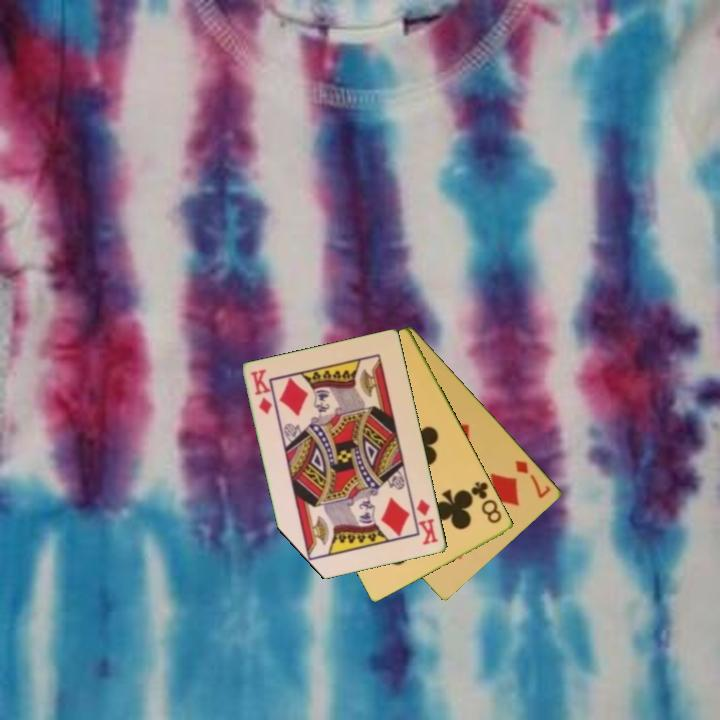7d: (512, 456, 554, 501)
8c: (468, 478, 505, 527)
Kd: (413, 495, 441, 548), (247, 366, 275, 418)
